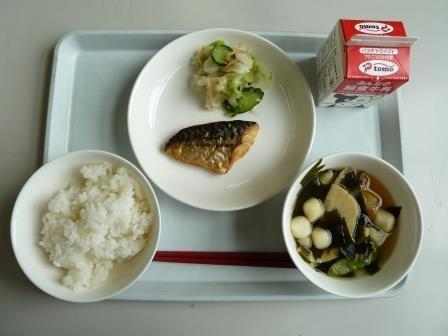Fish: (167, 105, 274, 169)
Milk: (327, 16, 428, 121)
Rice: (11, 152, 159, 289)
Salad: (166, 32, 276, 110)
Soups: (276, 158, 419, 304)
